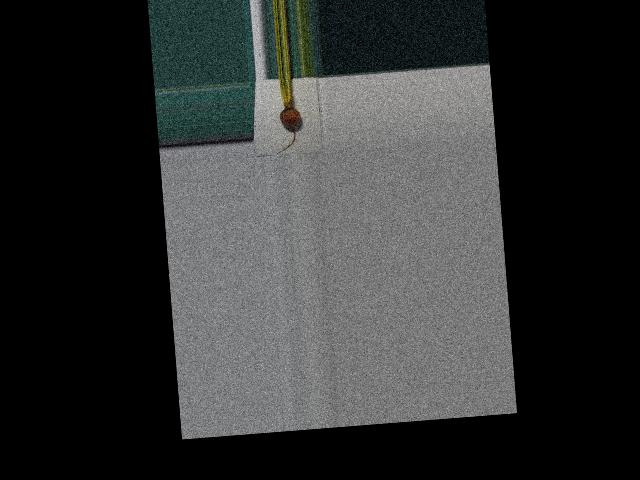beet: (271, 77, 303, 154)
